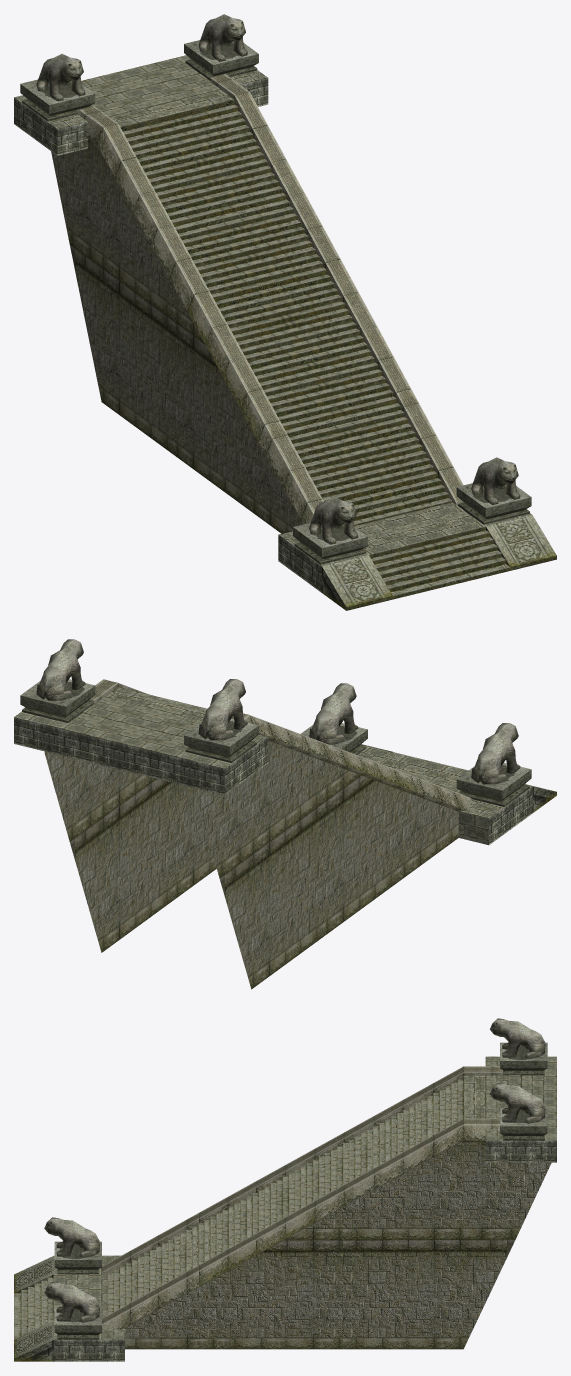
File: secret_stairs_01.fbx
The picture shows the model from 3 angles, top to bottom: view 1: azimuth 30°, elevation 25°; view 2: azimuth 150°, elevation 25°; view 3: azimuth 270°, elevation 25°; orthographic projection. The views are drawn at different scales.
Parts seen in each view (by area): view 1: secret_stairs_01; view 2: secret_stairs_01; view 3: secret_stairs_01.
Boxes of the visible parts, left/top/right/bottom form: secret_stairs_01: left=14, top=14, right=556, bottom=610; secret_stairs_01: left=14, top=639, right=556, bottom=989; secret_stairs_01: left=14, top=1018, right=556, bottom=1361.
Size of the model in its own units: 15.79 by 23.46 by 43.15.
